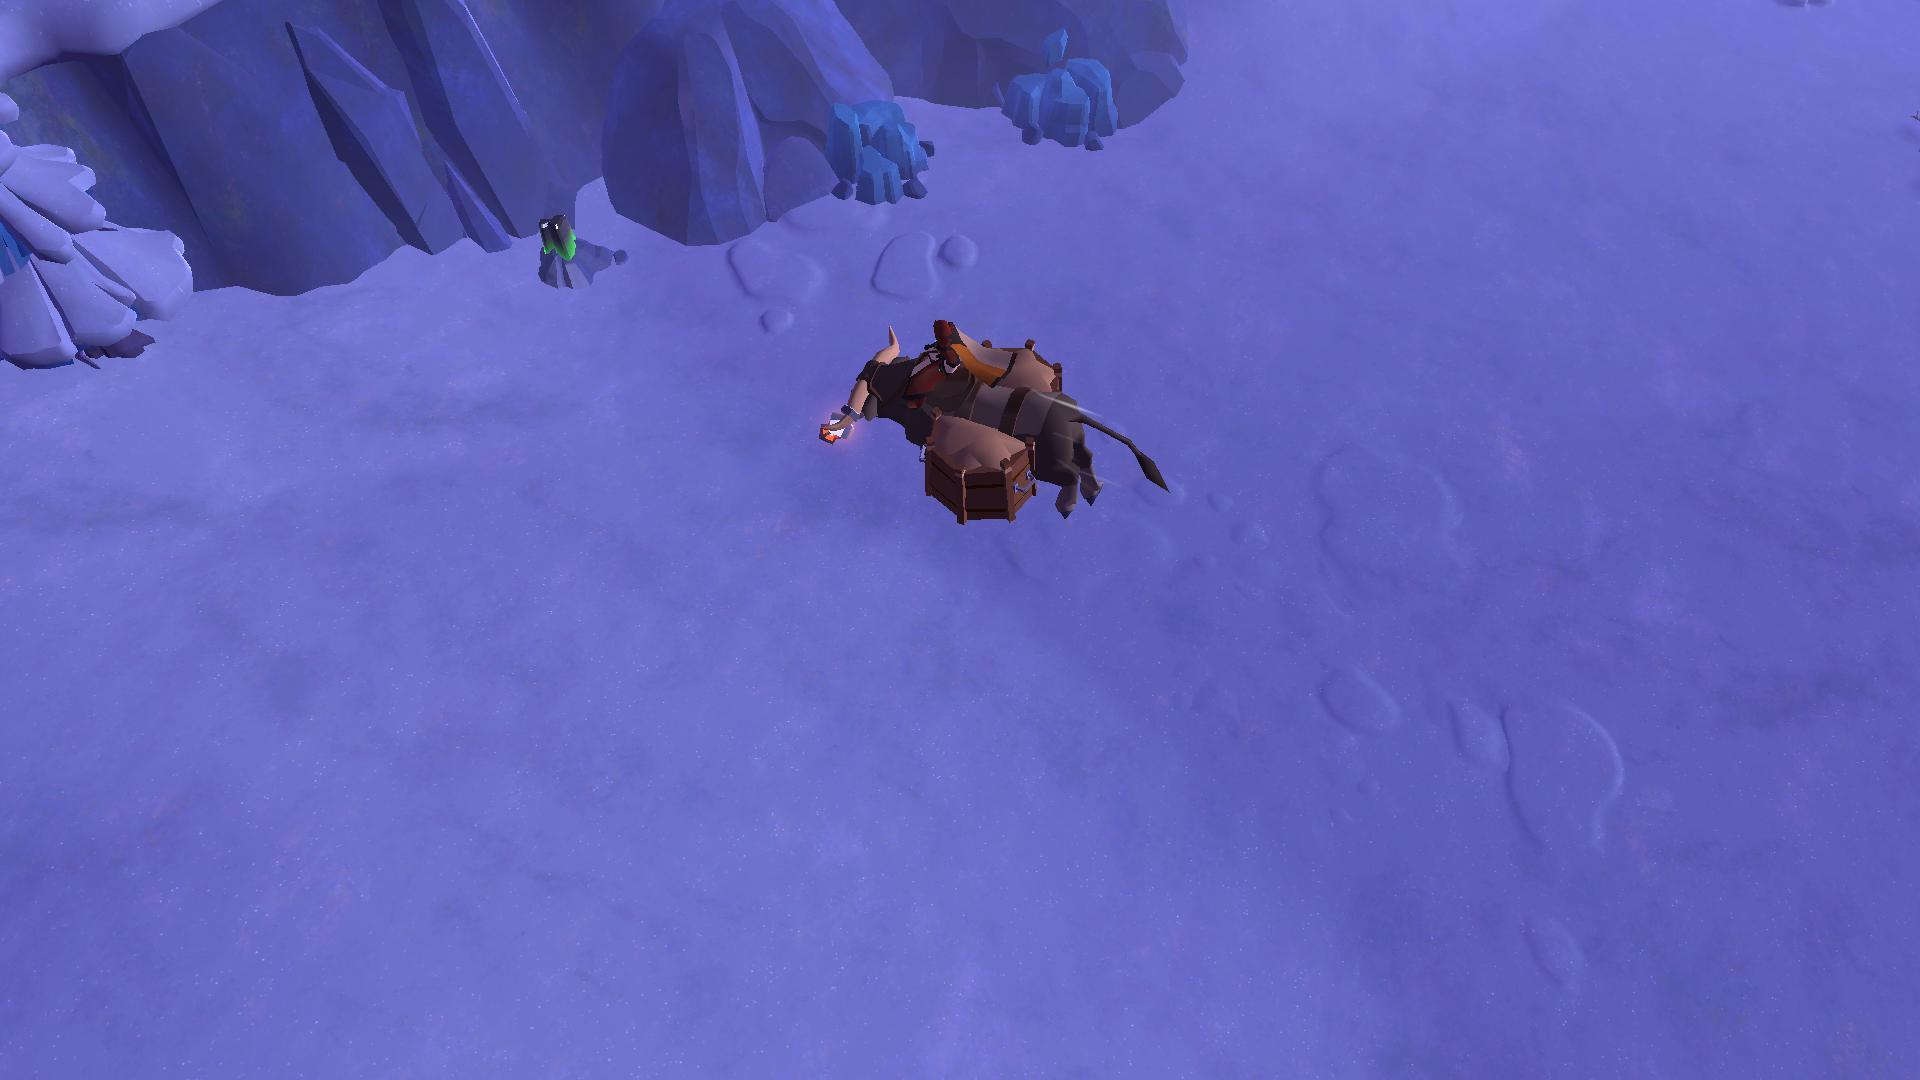ore_t3: (527, 212, 580, 274)
rock_t4: (990, 25, 1117, 150), (820, 91, 930, 199)
